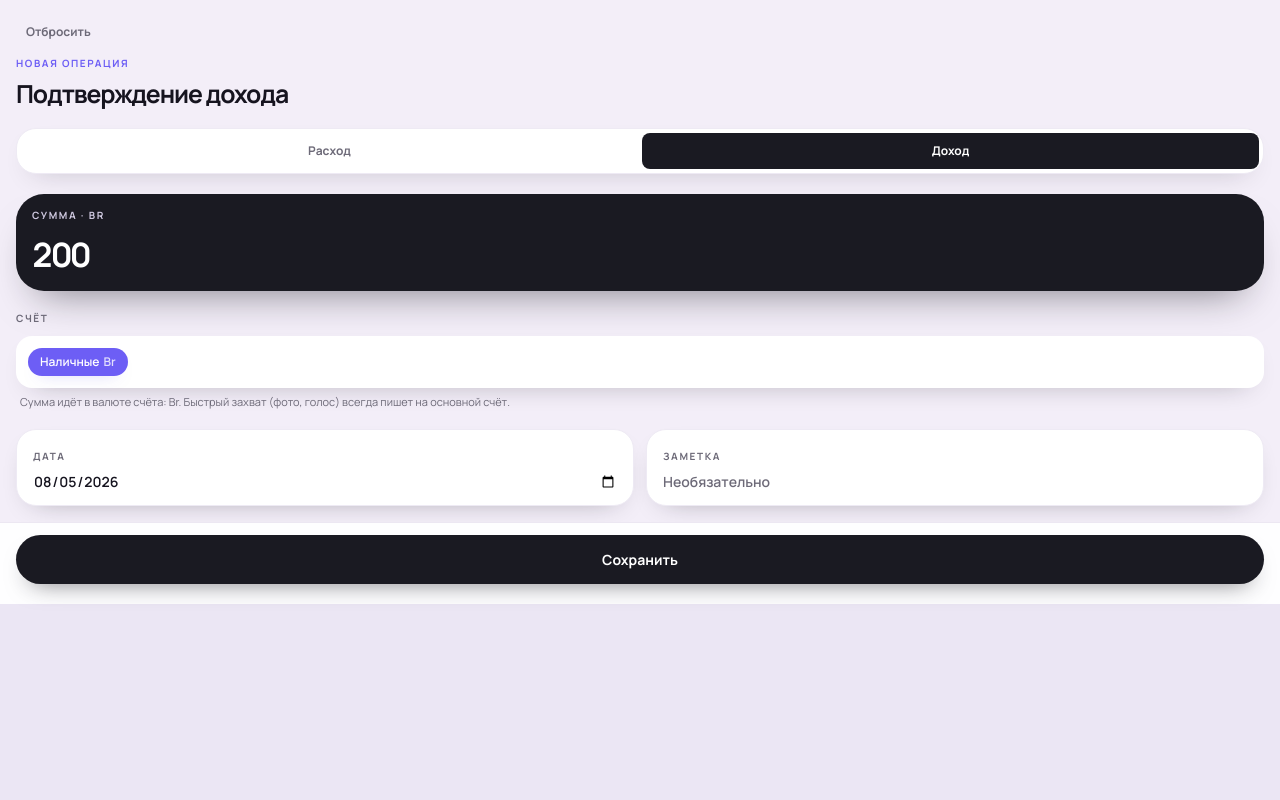
ConfirmDraft › on Commit failure keeps Draft on confirm for retry
Step 1. Click the button "Сохранить" → (640, 559), box [16,535,1264,584]
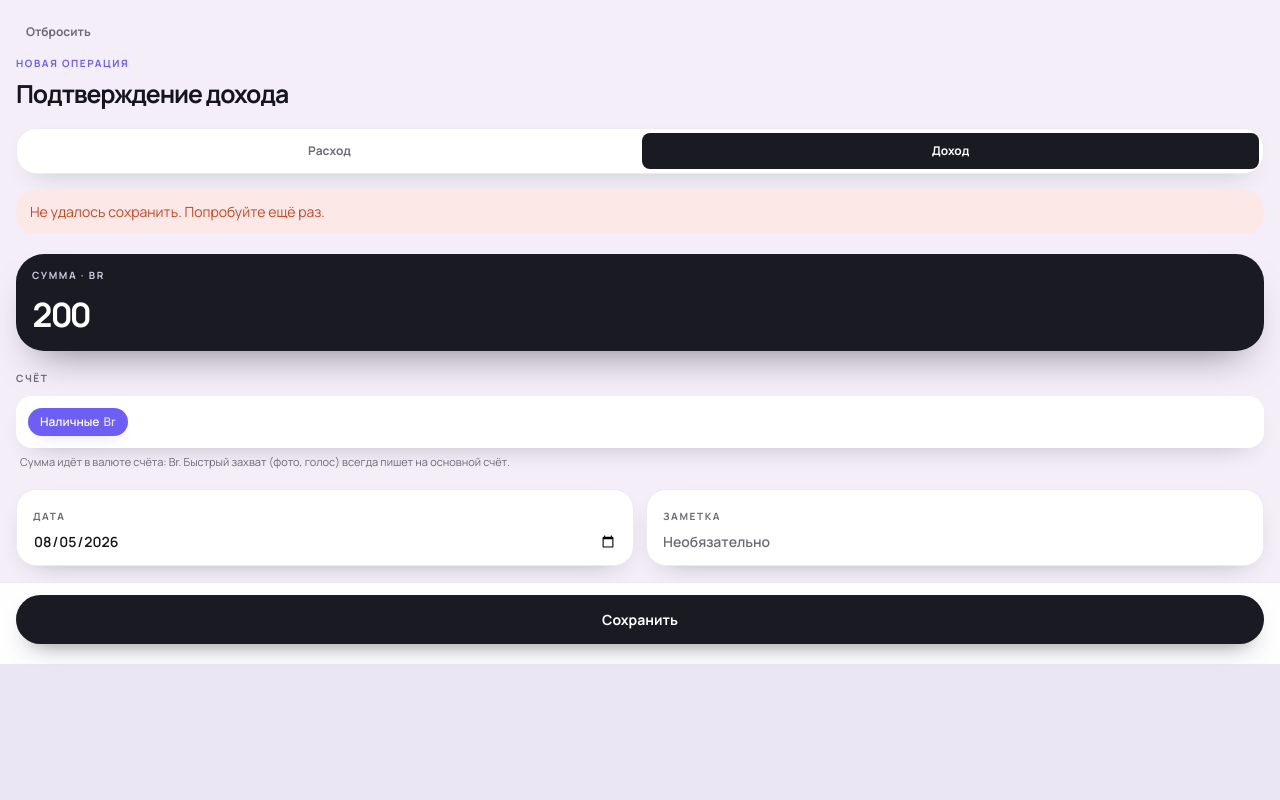
Expected: the field named "Сумма" holds "200", [32,291,1248,337]
Now the message shows "Не удалось сохранить", box [30,202,325,221]
